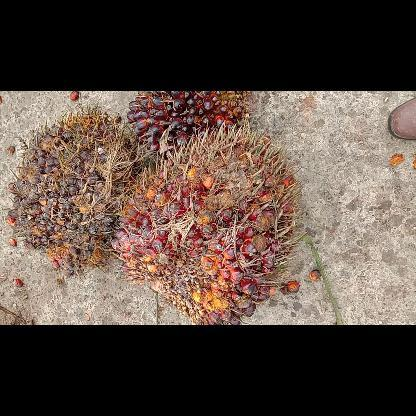Kurang masak: (6, 106, 132, 276), (125, 92, 251, 152)
TBS masak: (119, 124, 298, 324)
